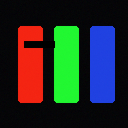3 line_h: (24, 41, 54, 47)
